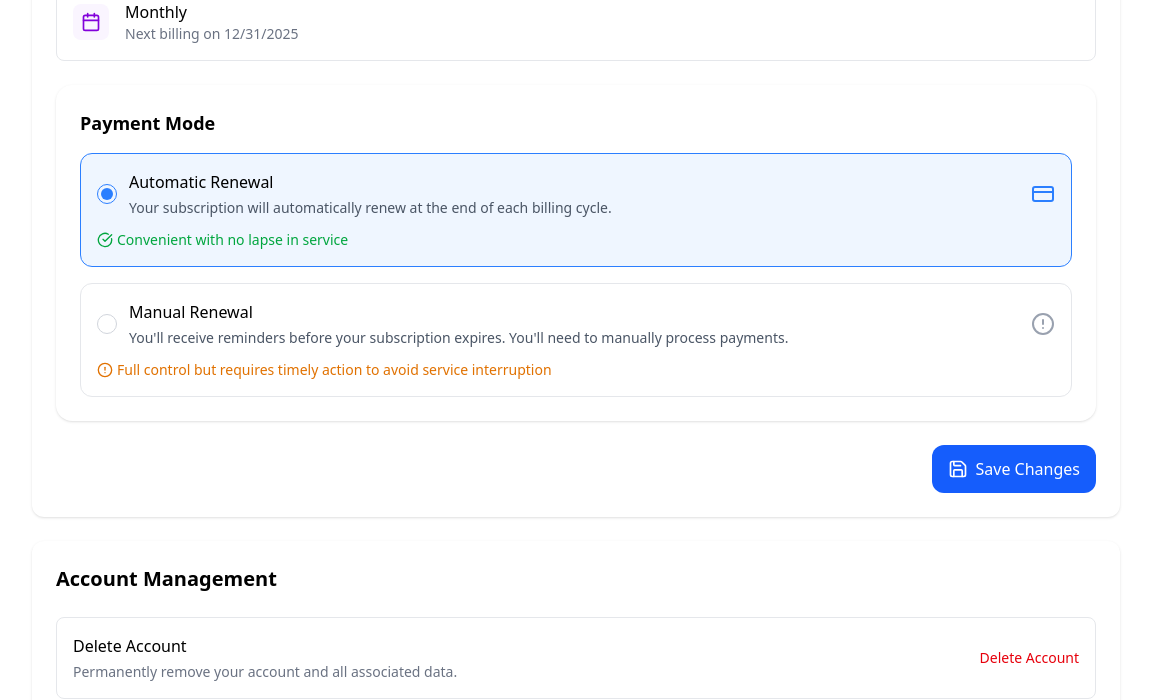
Test: AccountInformationPage › handles payment mode changes (automatic to manual)
(page scrolled)
Expected: the element with test id "payment-mode-section" is shown, [56,85,1096,421]
Click manual payment option
Click the element with test id "manual-payment-option": click(576, 340) [80,283,1072,397]
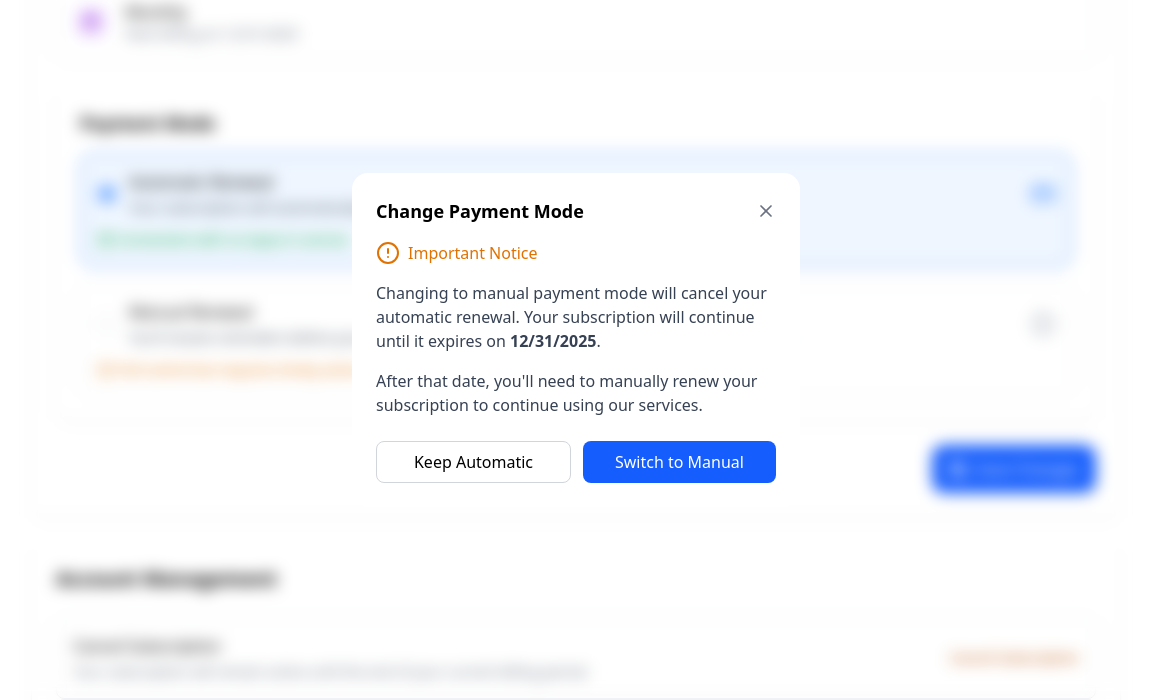
Expected: the element with test id "payment-mode-alert-modal" is shown, [352,173,800,507]
Confirm switch to manual
Click the button with test id "switch-to-manual-button": click(680, 462) [583,441,776,483]
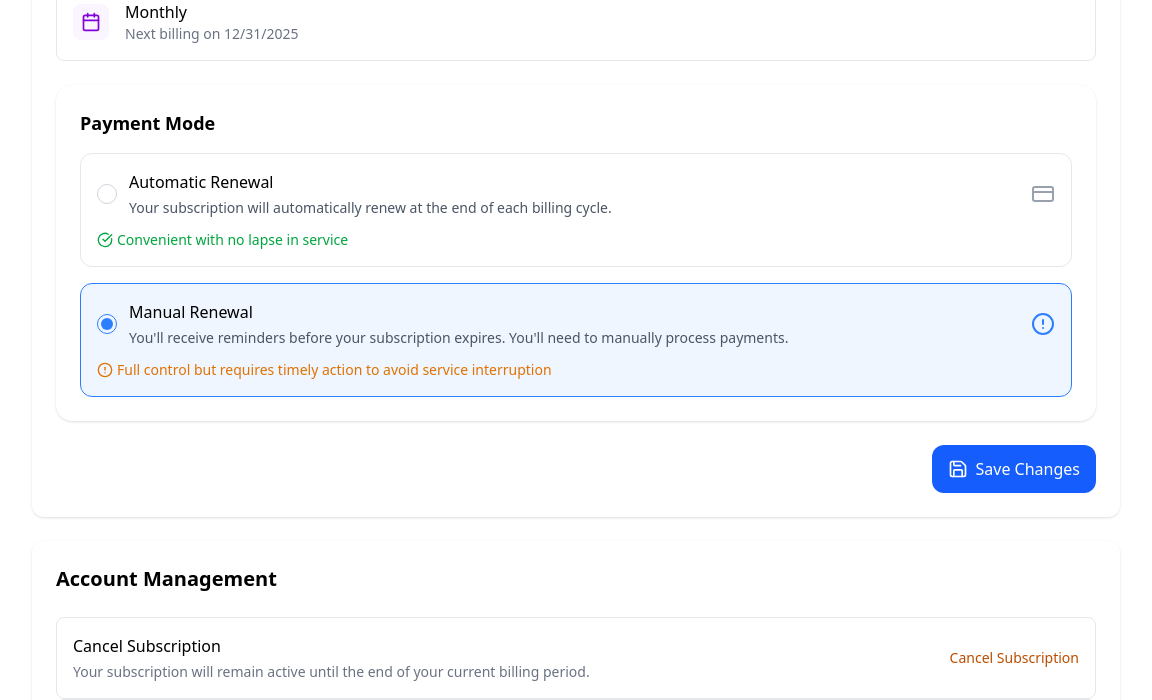
Save changes
Click the button with test id "save-payment-mode-button": click(1014, 469) [932,445,1096,493]
(page scrolled)
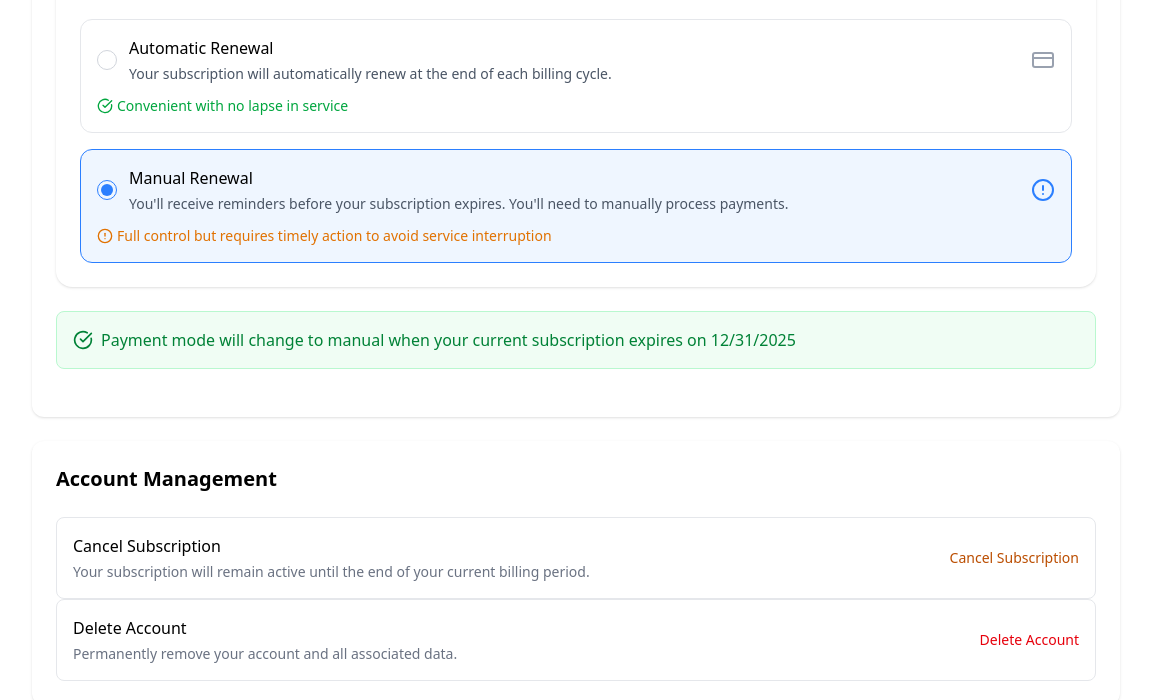
Expected: the element with test id "payment-mode-success" is shown, [56,311,1096,369]
